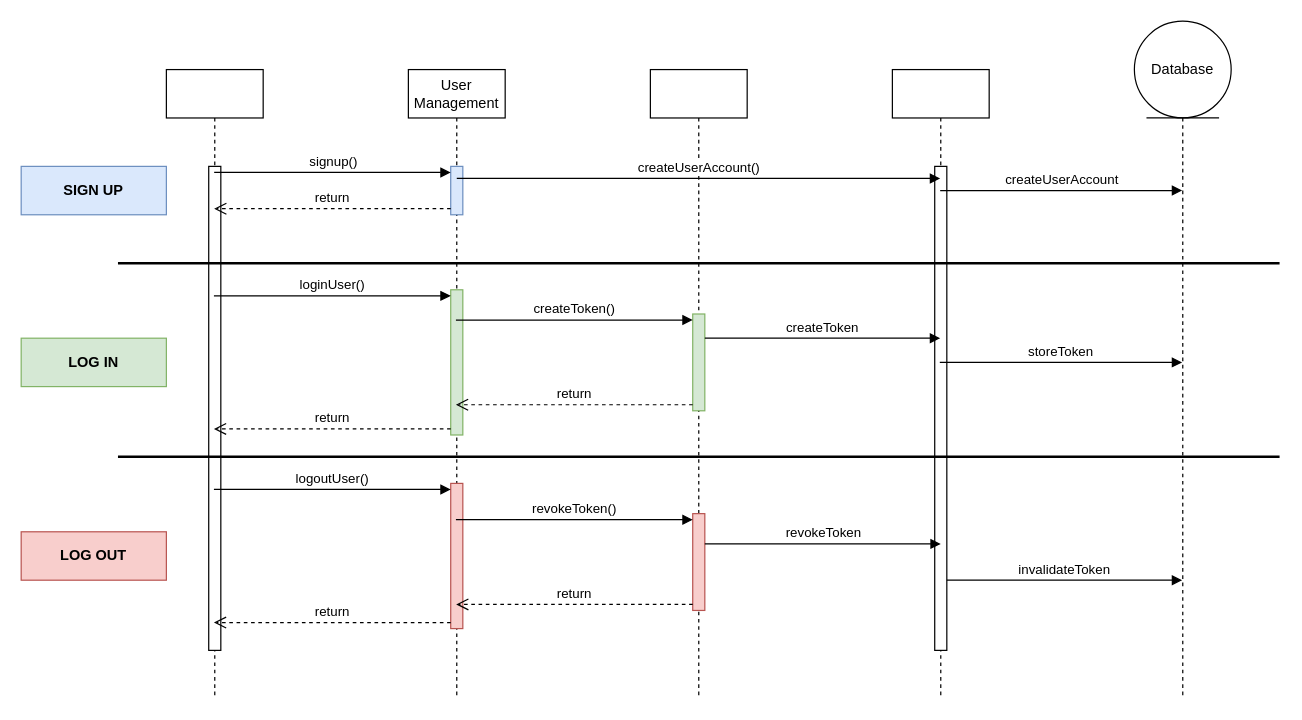
Some shapes in this 1302 by 720 pixel diagram are drawn without their labels. Here are the shapes that lost their labels. From the top down, the box of each, then its label:
(165, 68, 263, 699): Client App
(649, 68, 747, 699): Session Management
(891, 68, 989, 699): Database Layer
